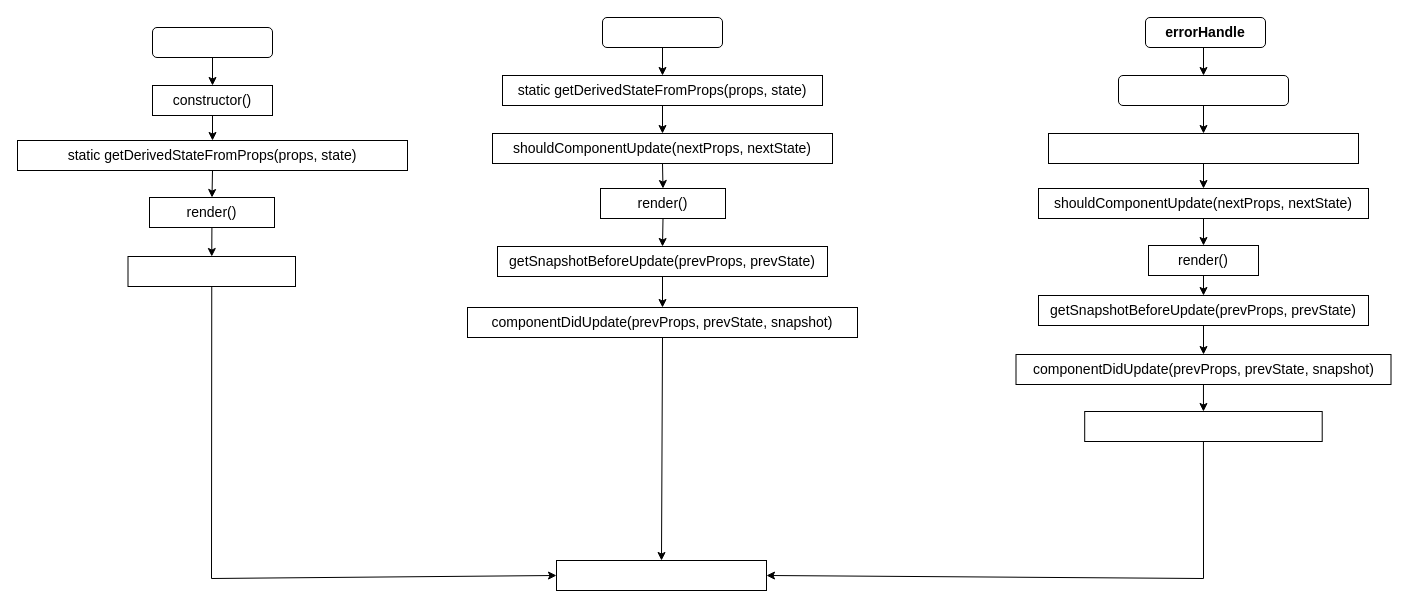
The diagram is 1409 pixels wide and 608 high, and some of its shapes have lost their labels. Here are the shapes that lost their labels. From the top down, the centre of each, then its label:
At pixel 212 42: "initialRender".
At pixel 662 32: "update".
At pixel 1203 90: "subComponent Error".
At pixel 1203 148: "static getDerivedStateFromError(error)".
At pixel 211 271: "componentDidMount()".
At pixel 1203 426: "componentDidCatch(error, info)".
At pixel 661 575: "componentWillUnmount()".
